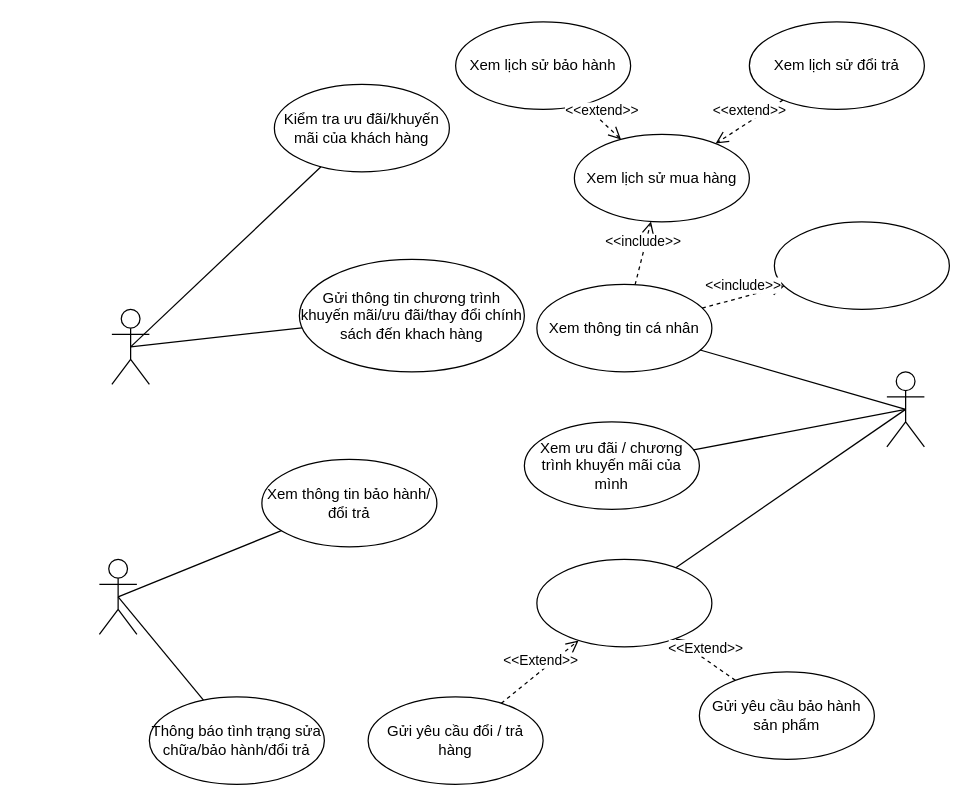
This 971x806 diagram has some shape labels left out. The shapes that lost their labels are listed below. From the top down, each one's box as (x1, y1, x2, y2) in pixels, then its label:
(773, 221, 949, 309): Xem điểm tích luỹ
(111, 308, 149, 384): Nhân viên chăm sóc khách hàng
(886, 371, 924, 447): Khách hàng
(98, 558, 137, 634): Nhân viên kỹ thuật
(536, 558, 712, 647): Gửi yêu cầu bảo hành, hâu mãi
